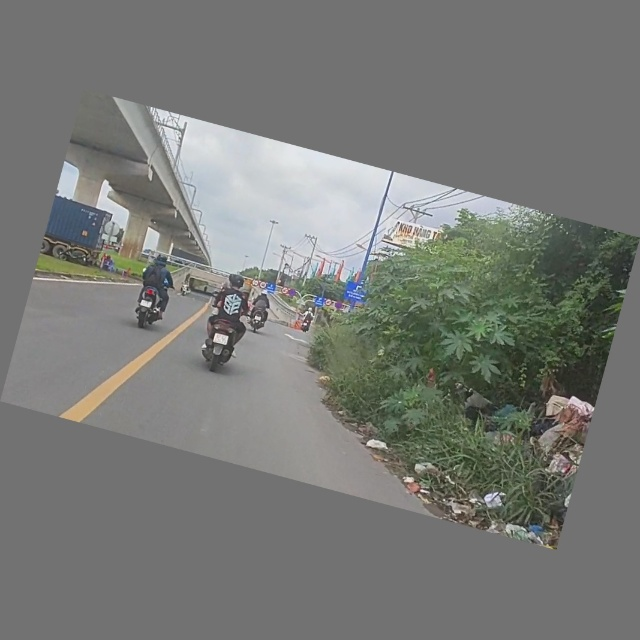P.107: (280, 286, 290, 296), (323, 299, 333, 308)
P.117*: (250, 279, 260, 288)
P.127*40: (258, 281, 267, 291)
P.130: (287, 289, 297, 298), (335, 301, 344, 311)
